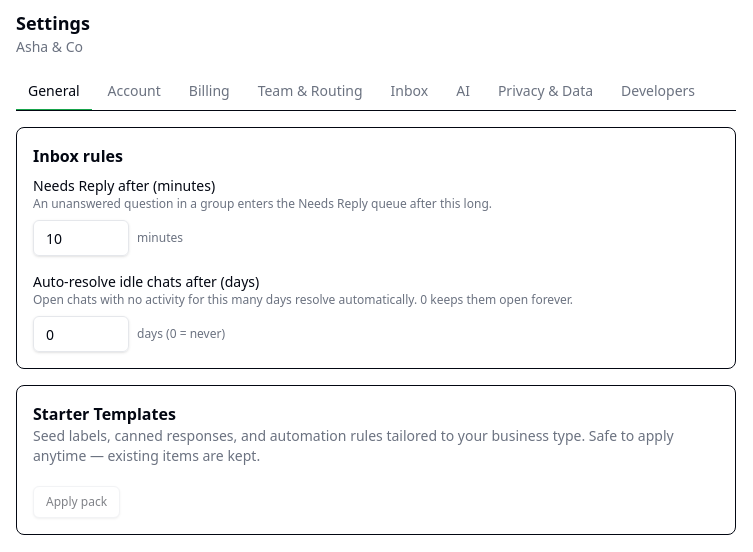
Test: SettingsPage › billing tab shows the AI usage meter when the add-on is active
The width and height of the screenshot is (753, 552).
Step 1. Click the tab "Billing" → (209, 92), box [177,73,242,111]
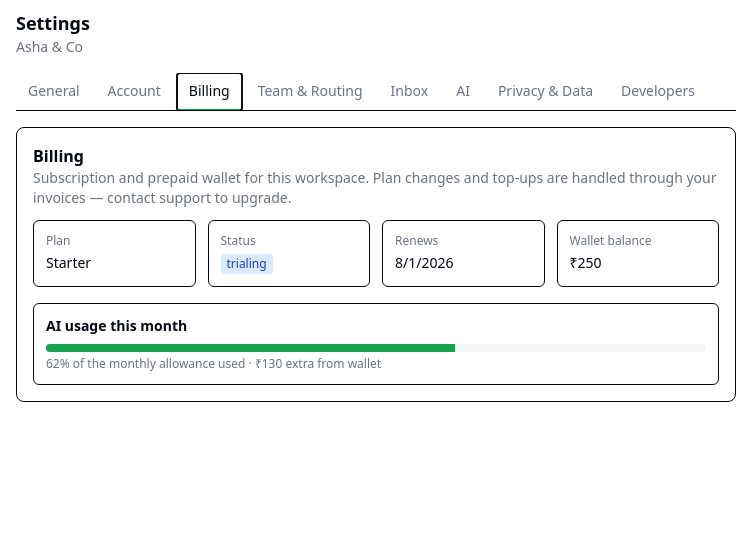
Check: the text "62% of the monthly allowance used · ₹130 extra from wallet" is shown, box [46,355,381,372]
